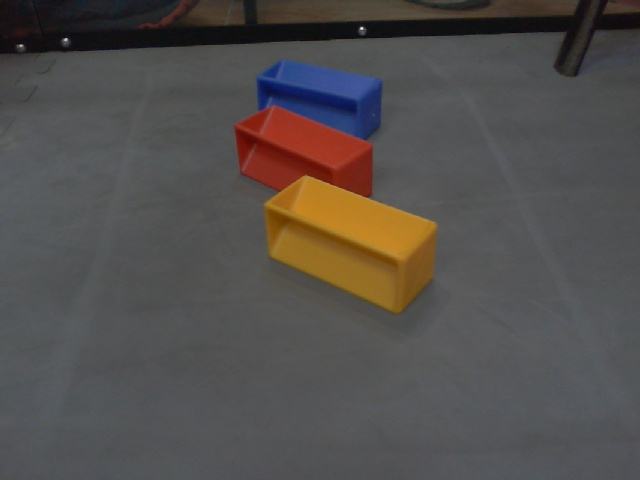BlueSample: (256, 58, 385, 145)
RedSample: (232, 103, 374, 209)
YellowSample: (262, 173, 442, 317)
